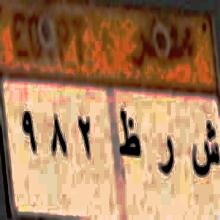2: (76, 111, 96, 166)
8: (49, 108, 69, 163)
9: (20, 104, 39, 165)
Thaa: (117, 107, 141, 164)
raa: (156, 135, 176, 180)
sheen: (190, 118, 220, 182)
